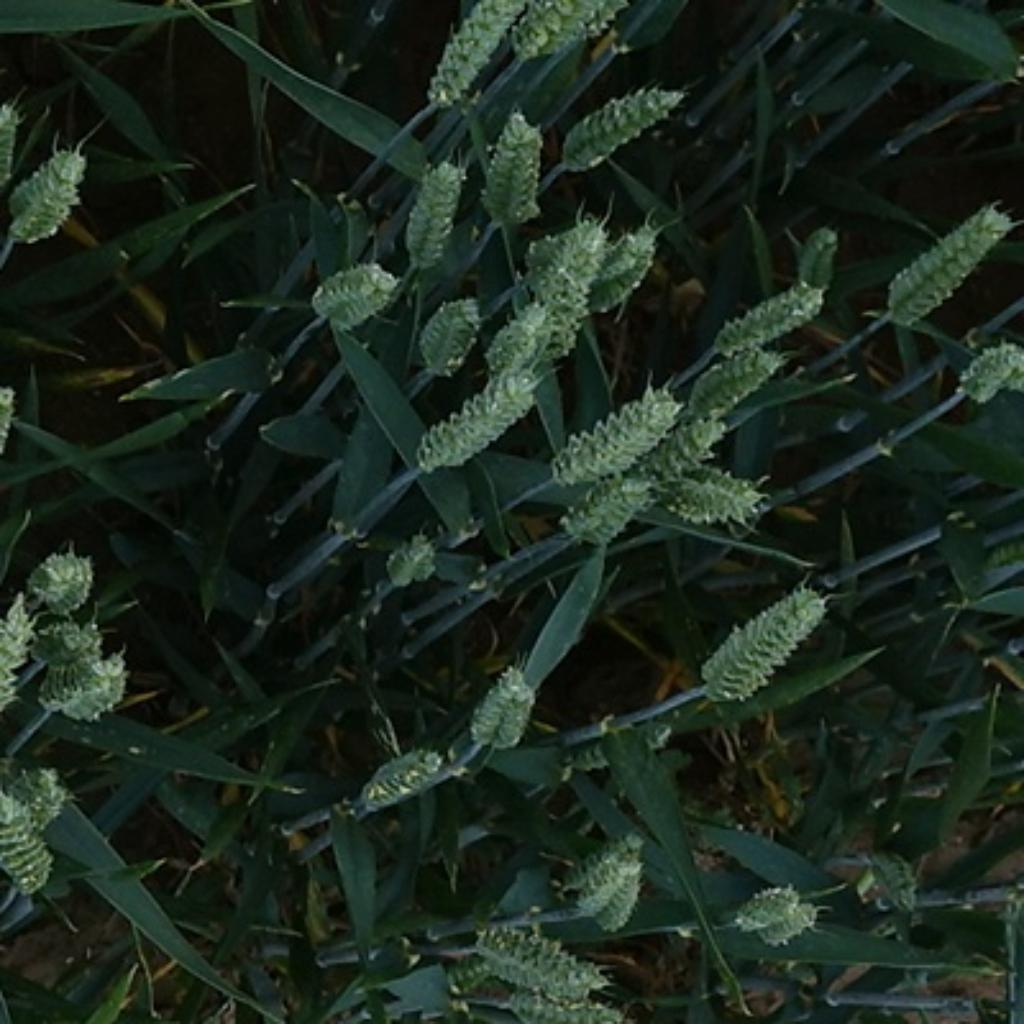0-0: (540, 373, 698, 499), (401, 363, 545, 476), (882, 209, 1012, 323), (703, 581, 824, 699), (412, 2, 519, 113), (28, 614, 138, 721), (706, 271, 837, 350), (558, 86, 687, 166), (535, 227, 604, 371), (345, 732, 463, 816), (476, 926, 608, 996), (558, 468, 668, 550), (680, 343, 801, 417), (458, 650, 542, 752), (396, 151, 468, 268), (476, 107, 545, 227), (652, 458, 773, 524), (6, 148, 85, 248), (586, 220, 665, 317), (555, 714, 683, 770), (311, 256, 404, 327), (412, 286, 483, 371), (0, 791, 54, 899), (2, 591, 48, 711), (512, 980, 637, 1024), (575, 838, 641, 913), (25, 545, 99, 611), (18, 762, 74, 845), (952, 341, 1023, 405), (527, 220, 591, 291), (784, 219, 850, 287), (582, 863, 644, 932), (735, 882, 803, 936), (857, 849, 919, 906), (385, 531, 440, 588), (494, 309, 547, 368), (765, 905, 817, 945)
